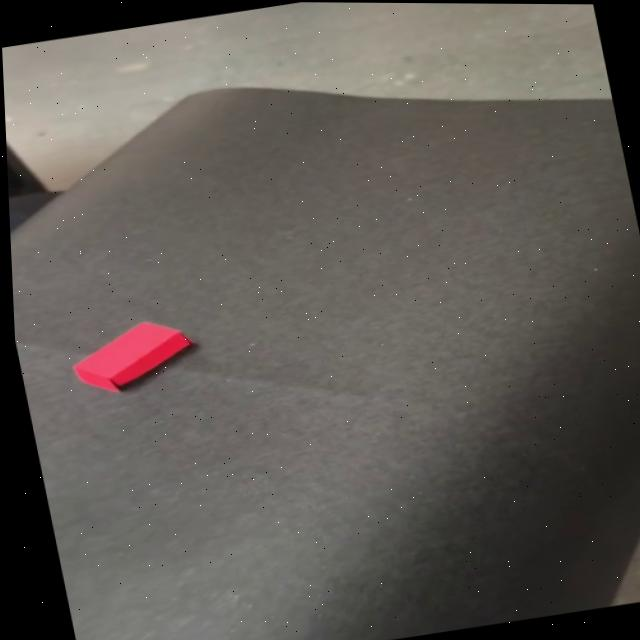red block: (63, 311, 203, 398)
